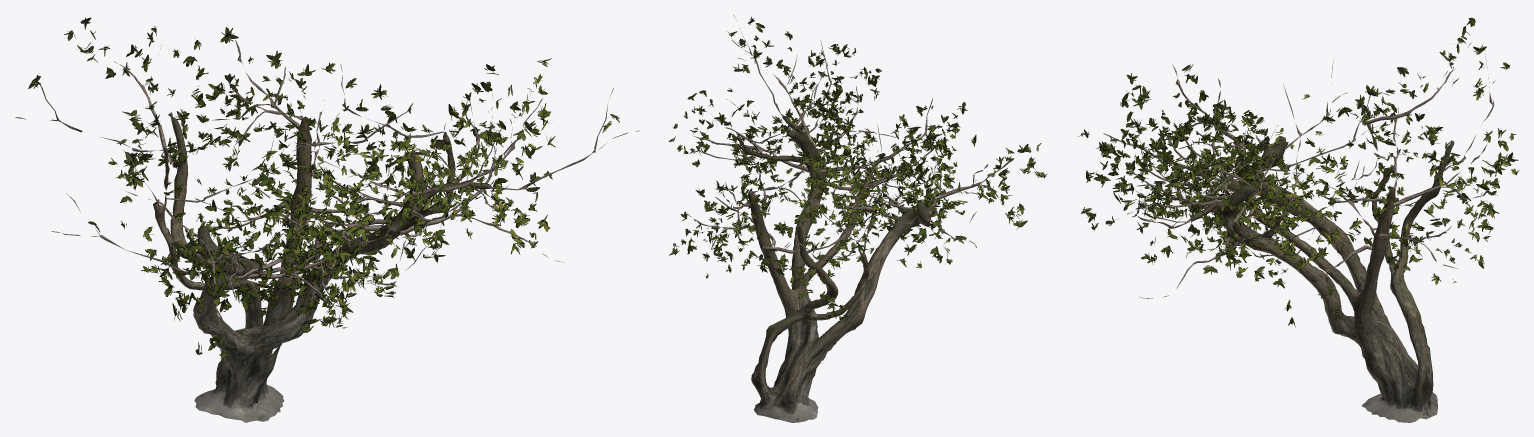
File: ilha2.glb
3 views of the same model, side by side, from view 1: azimuth 30°, elevation 25°; view 2: azimuth 150°, elevation 25°; view 3: azimuth 270°, elevation 25° (orthographic). The views are drawn at different scales.
Visible parts, largest first — view 1: ilha2; view 2: ilha2; view 3: ilha2.
Part boxes in pixels (x1,y1,x2,y2): ilha2: (15,17,639,422); ilha2: (668,15,1046,422); ilha2: (1078,17,1519,422).
Bounding box in the file's own units: 4.19 × 3.39 × 3.99.
3 materials, 3 textured.
